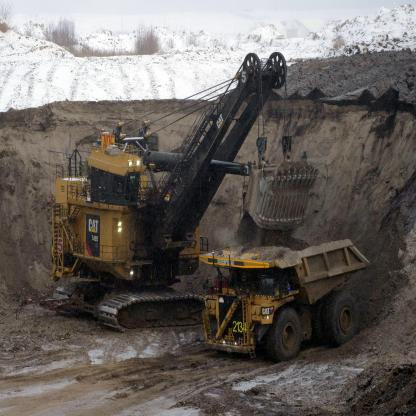dump_truck: (199, 232, 379, 362)
